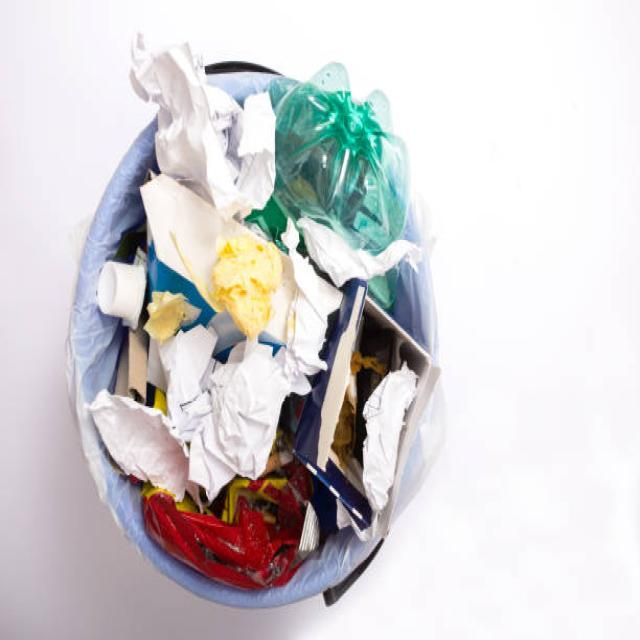cardboard: (309, 286, 422, 504)
paper: (120, 237, 286, 463), (122, 27, 280, 204)
plastic: (293, 80, 409, 240), (143, 488, 319, 557)
